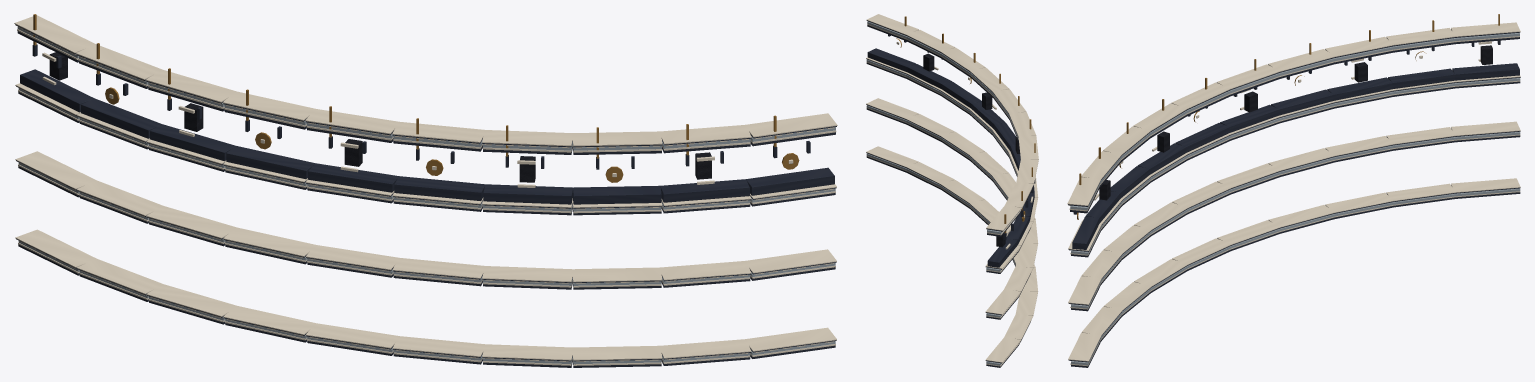
Rendered from COL_AtticCornice_Q2.glb.
The picture shows the model from 3 angles, left to right: view 1: azimuth 30°, elevation 25°; view 2: azimuth 150°, elevation 25°; view 3: azimuth 270°, elevation 25°; orthographic projection. The views are drawn at different scales.
Parts seen in each view (by area): view 1: COL_AtticCornice_Q2; view 2: COL_AtticCornice_Q2; view 3: COL_AtticCornice_Q2.
Boxes of the visible parts, <box> form: COL_AtticCornice_Q2: <box>14,14,837,367</box>; COL_AtticCornice_Q2: <box>866,14,1038,367</box>; COL_AtticCornice_Q2: <box>1067,14,1520,367</box>.
Size of the model in its own units: 111 by 49 by 116.
5 materials, 5 textured.
